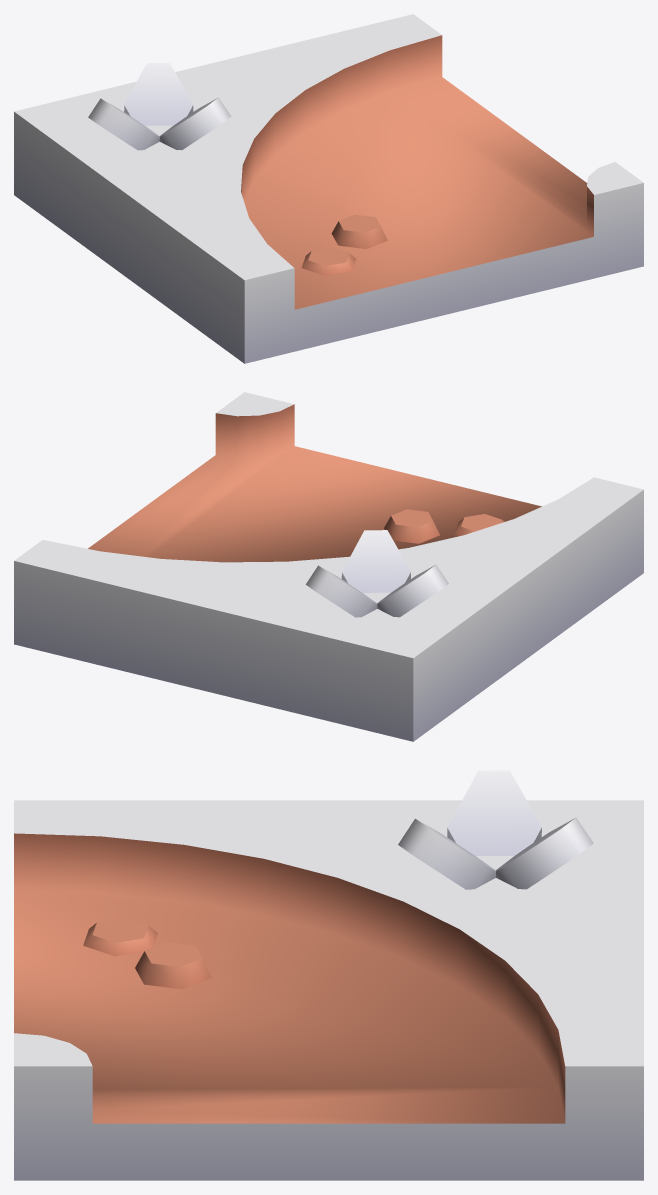
File: snow-tile-corner-round.fbx
3 views of the same model, one above another, from view 1: azimuth 30°, elevation 25°; view 2: azimuth 150°, elevation 25°; view 3: azimuth 270°, elevation 25° (orthographic). The views are drawn at different scales.
Visible parts, largest first — view 1: snow-tile-corner-round; view 2: snow-tile-corner-round; view 3: snow-tile-corner-round.
Boxes of the visible parts, x1=… form: snow-tile-corner-round: x1=14, y1=14, x2=643, y2=363; snow-tile-corner-round: x1=14, y1=392, x2=643, y2=741; snow-tile-corner-round: x1=14, y1=770, x2=643, y2=1180.
Size of the model in its own units: 100 by 29.6 by 100.
